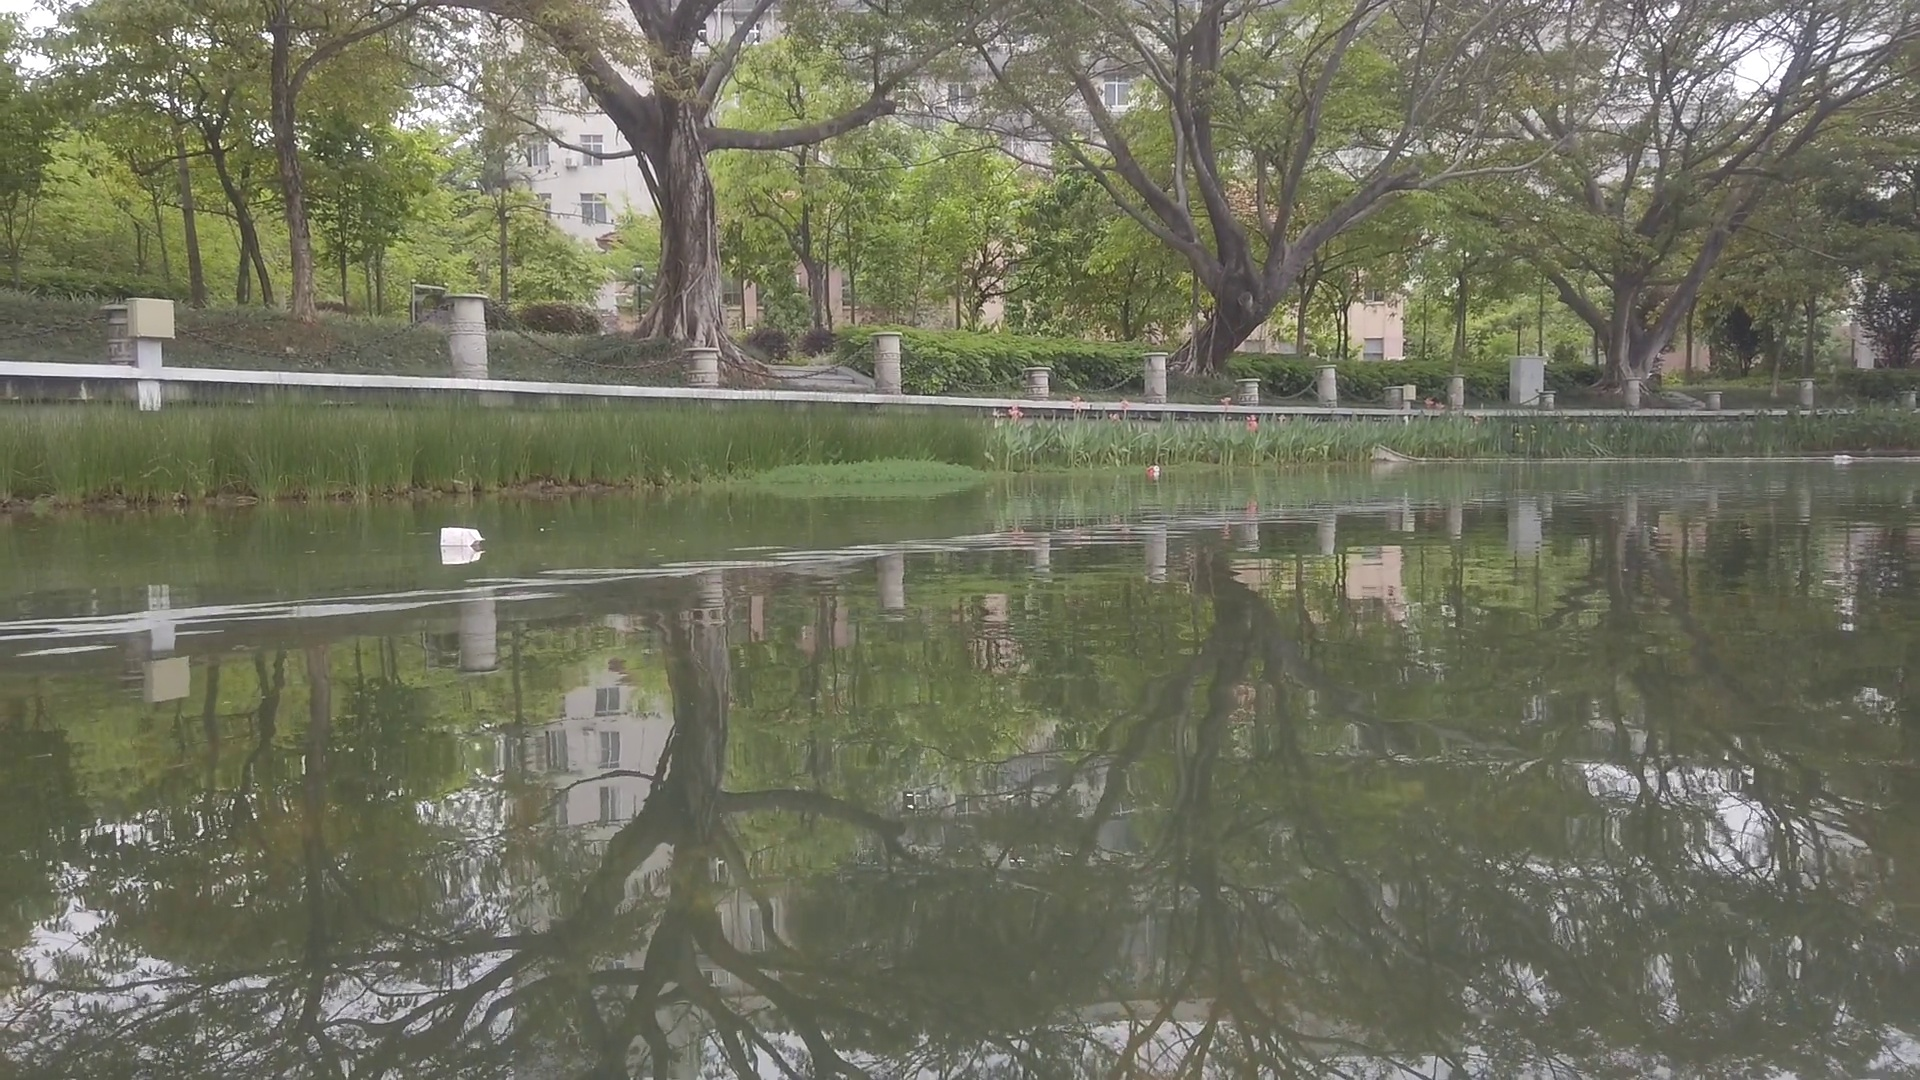bottle: (1832, 454, 1853, 463), (1147, 465, 1160, 476)
carton: (438, 527, 483, 549)
